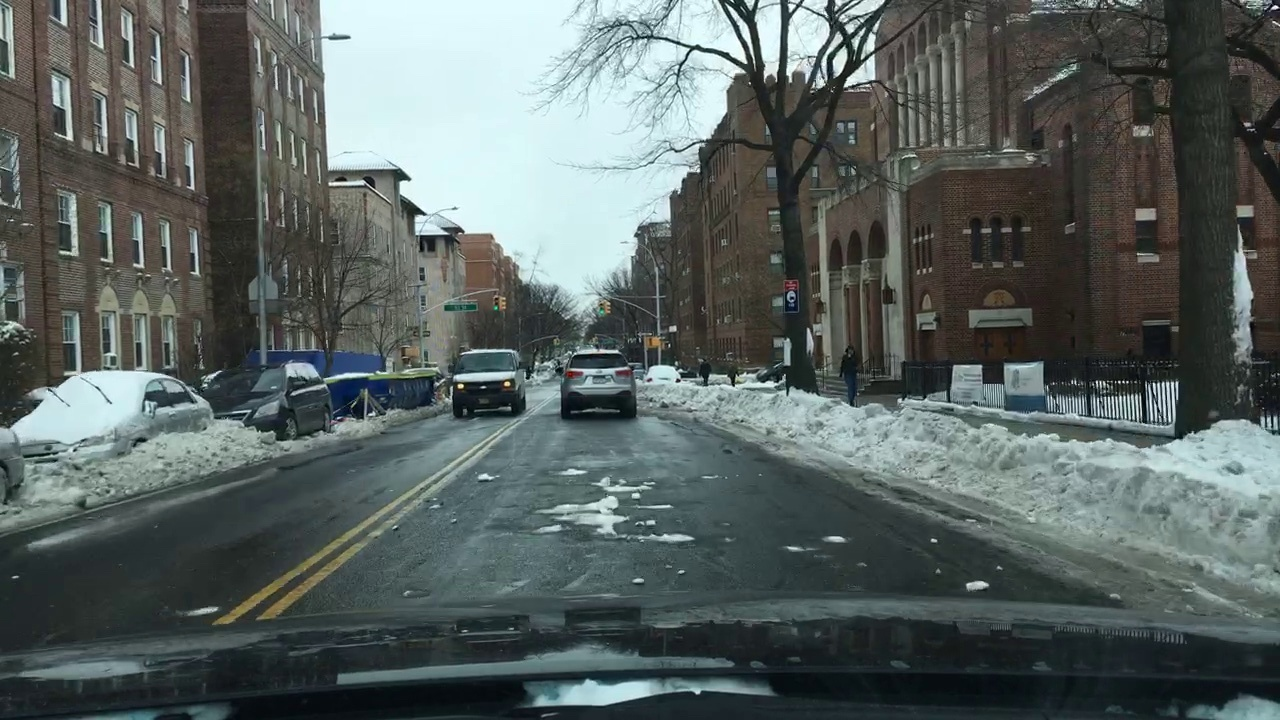car: (10, 369, 214, 472), (204, 364, 338, 437), (562, 348, 638, 420), (452, 348, 527, 420)
person: (838, 343, 865, 408), (725, 357, 744, 392), (698, 357, 713, 388)
traffic light: (490, 289, 511, 318), (595, 296, 612, 320)
